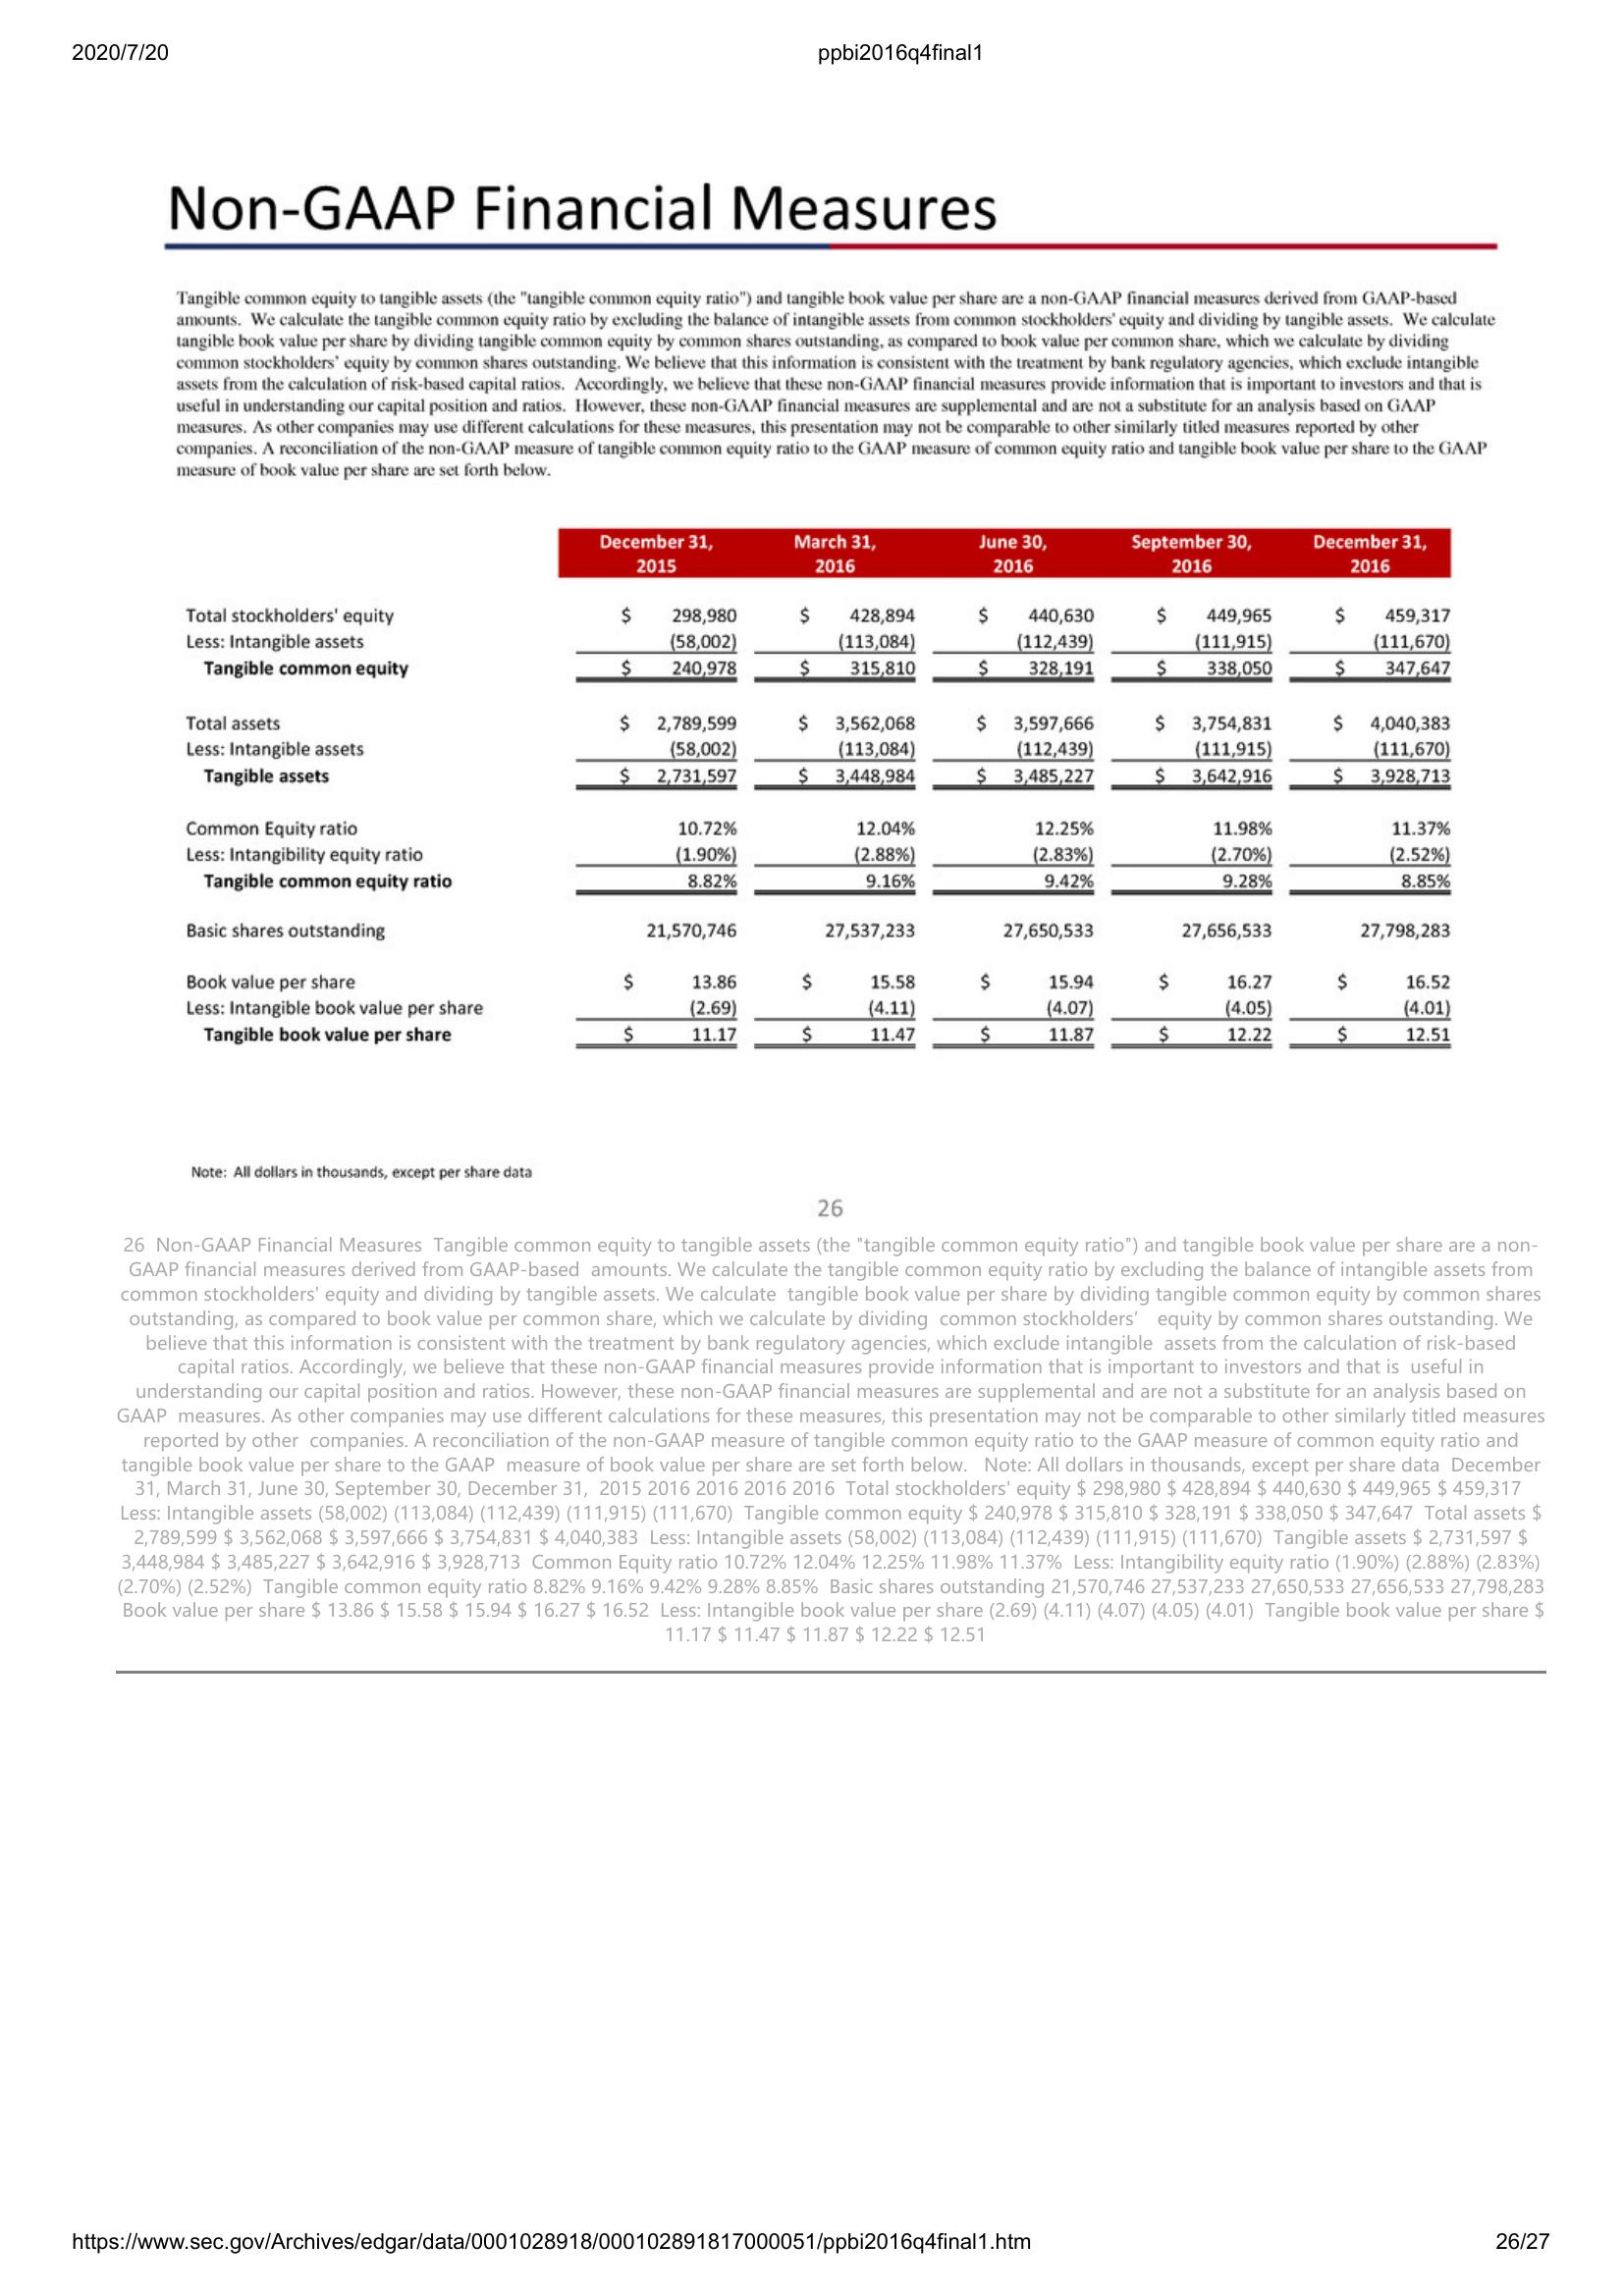table: (183, 527, 1463, 1053)
